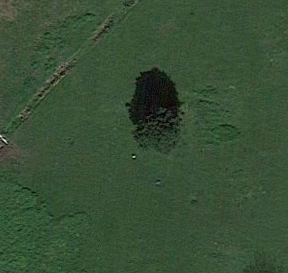tree: (121, 102, 186, 161)
